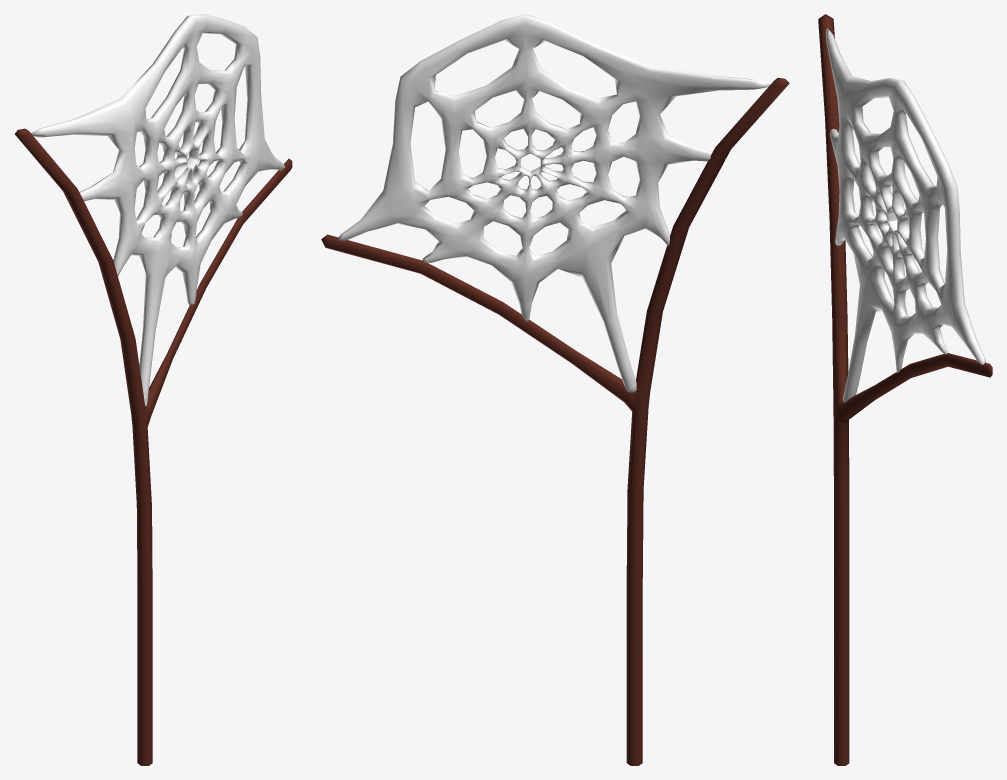
Rendered from Spiderweb_UpperThird_Joined.fbx.
3 views of the same model, side by side, from view 1: azimuth 30°, elevation 25°; view 2: azimuth 150°, elevation 25°; view 3: azimuth 270°, elevation 25° (orthographic). The views are drawn at different scales.
Visible parts, largest first — view 1: Branch_SpiderWeb_Basic.001; view 2: Branch_SpiderWeb_Basic.001; view 3: Branch_SpiderWeb_Basic.001.
Boxes of the visible parts, left/top/right/bottom form: Branch_SpiderWeb_Basic.001: left=15, top=14, right=292, bottom=765; Branch_SpiderWeb_Basic.001: left=321, top=14, right=789, bottom=765; Branch_SpiderWeb_Basic.001: left=818, top=14, right=992, bottom=765.
Bounding box in the file's own units: 288 × 544 × 120.
